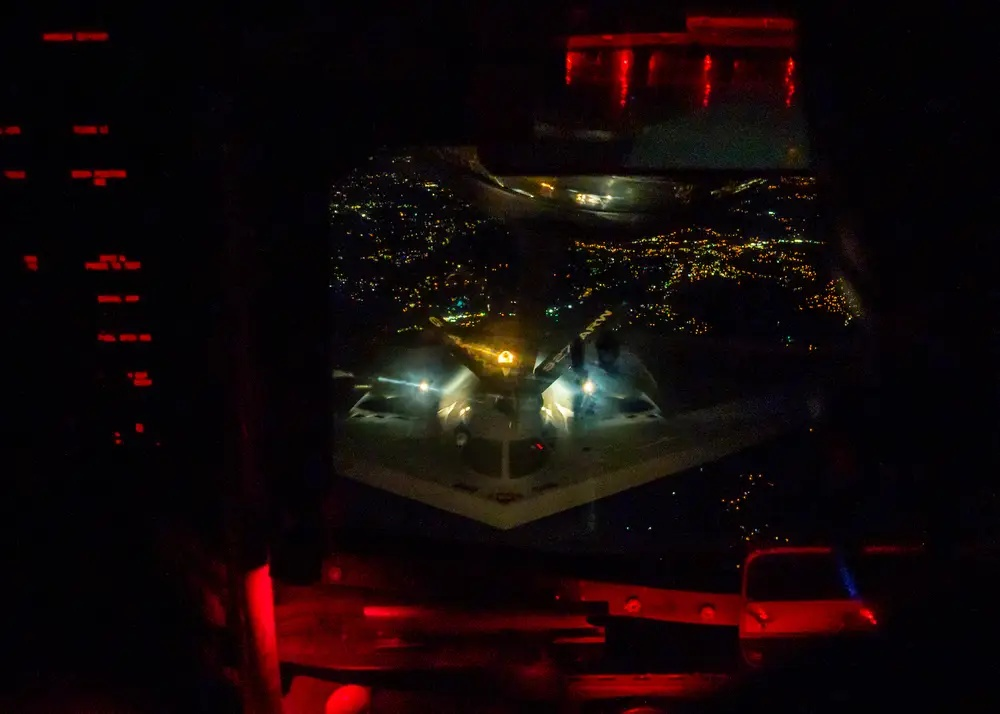B2: (334, 317, 823, 531)
